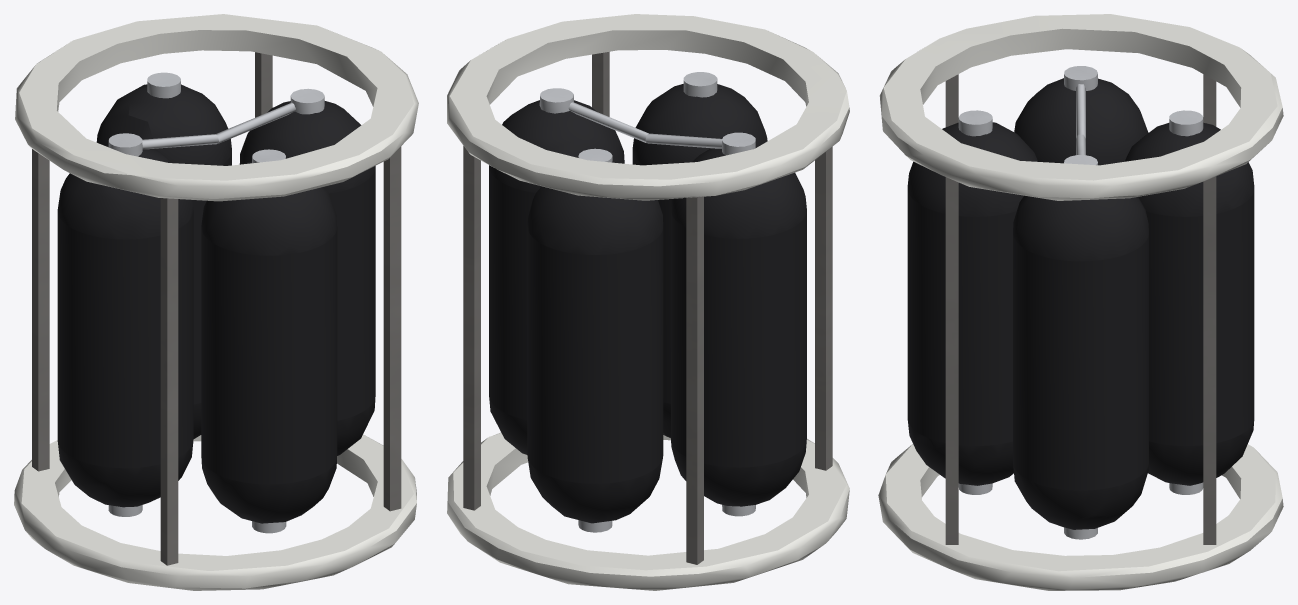
Rendered from ax_tank_07_xenon_copv_s.glb.
The picture shows the model from 3 angles, left to right: view 1: azimuth 30°, elevation 25°; view 2: azimuth 150°, elevation 25°; view 3: azimuth 270°, elevation 25°; orthographic projection.
Visible parts, largest first — view 1: copv_bottles, frame_rings, frame_longerons, bottle_bosses, manifold; view 2: copv_bottles, frame_rings, frame_longerons, bottle_bosses, manifold; view 3: copv_bottles, frame_rings, frame_longerons, bottle_bosses, manifold.
Part boxes in pixels (bbox=[...]): copv_bottles: bbox=[57, 84, 375, 523]; frame_rings: bbox=[14, 14, 418, 590]; frame_longerons: bbox=[32, 52, 401, 565]; bottle_bosses: bbox=[108, 72, 324, 533]; manifold: bbox=[142, 102, 295, 149]; copv_bottles: bbox=[489, 84, 806, 523]; frame_rings: bbox=[447, 14, 849, 590]; frame_longerons: bbox=[463, 51, 832, 564]; bottle_bosses: bbox=[539, 72, 755, 532]; manifold: bbox=[568, 102, 721, 148]; copv_bottles: bbox=[907, 78, 1254, 529]; frame_rings: bbox=[878, 14, 1283, 590]; frame_longerons: bbox=[945, 74, 1216, 544]; bottle_bosses: bbox=[958, 66, 1203, 539]; manifold: bbox=[1076, 84, 1085, 155].
Bounding box in the file's own units: 1.25 × 1.4 × 1.25.
Materials: 4 (2 with a texture image).
